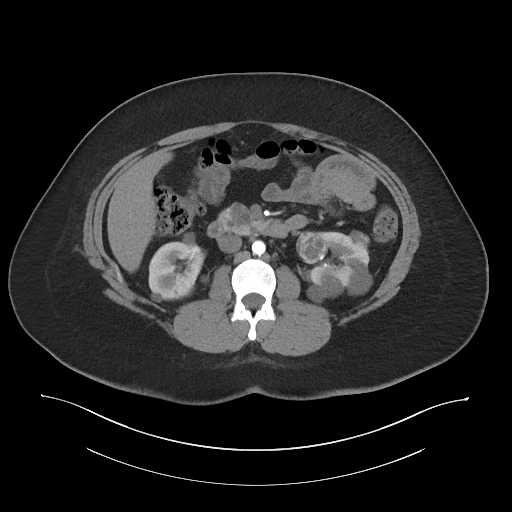Lesion: (292, 228, 328, 266)
